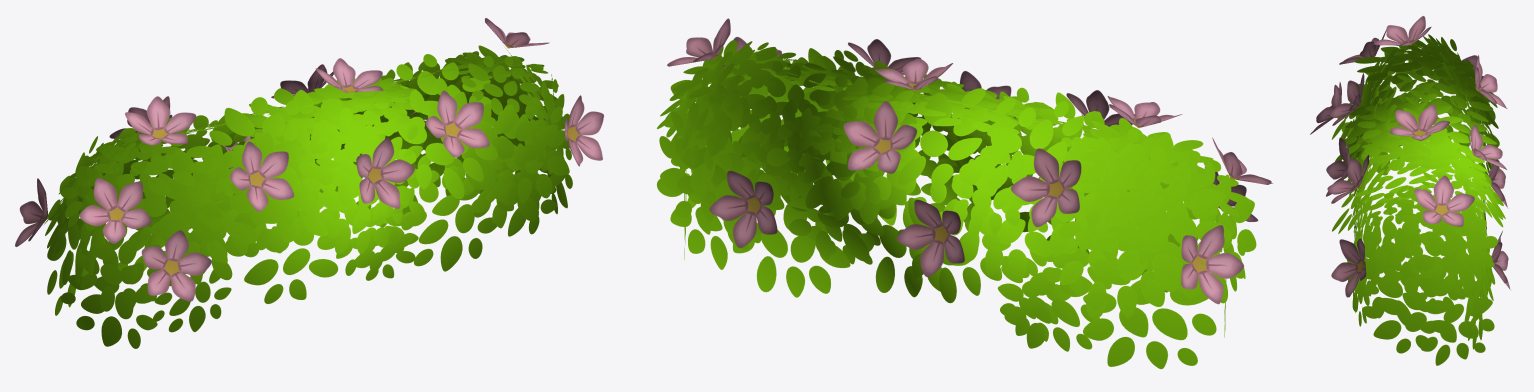
Rendered from bush_small_flowers.f2275cd5.glb.
3 views of the same model, side by side, from view 1: azimuth 30°, elevation 25°; view 2: azimuth 150°, elevation 25°; view 3: azimuth 270°, elevation 25° (orthographic). The views are drawn at different scales.
Visible parts, largest first — view 1: Bush_Small_Flowers; view 2: Bush_Small_Flowers; view 3: Bush_Small_Flowers.
Boxes of the visible parts, x1,y1,x2,y2 form: Bush_Small_Flowers: [15, 18, 603, 348]; Bush_Small_Flowers: [657, 18, 1272, 368]; Bush_Small_Flowers: [1310, 16, 1510, 365].
Bounding box in the file's own units: 1.93 × 0.8168 × 0.7617.
2 materials, 2 textured.
